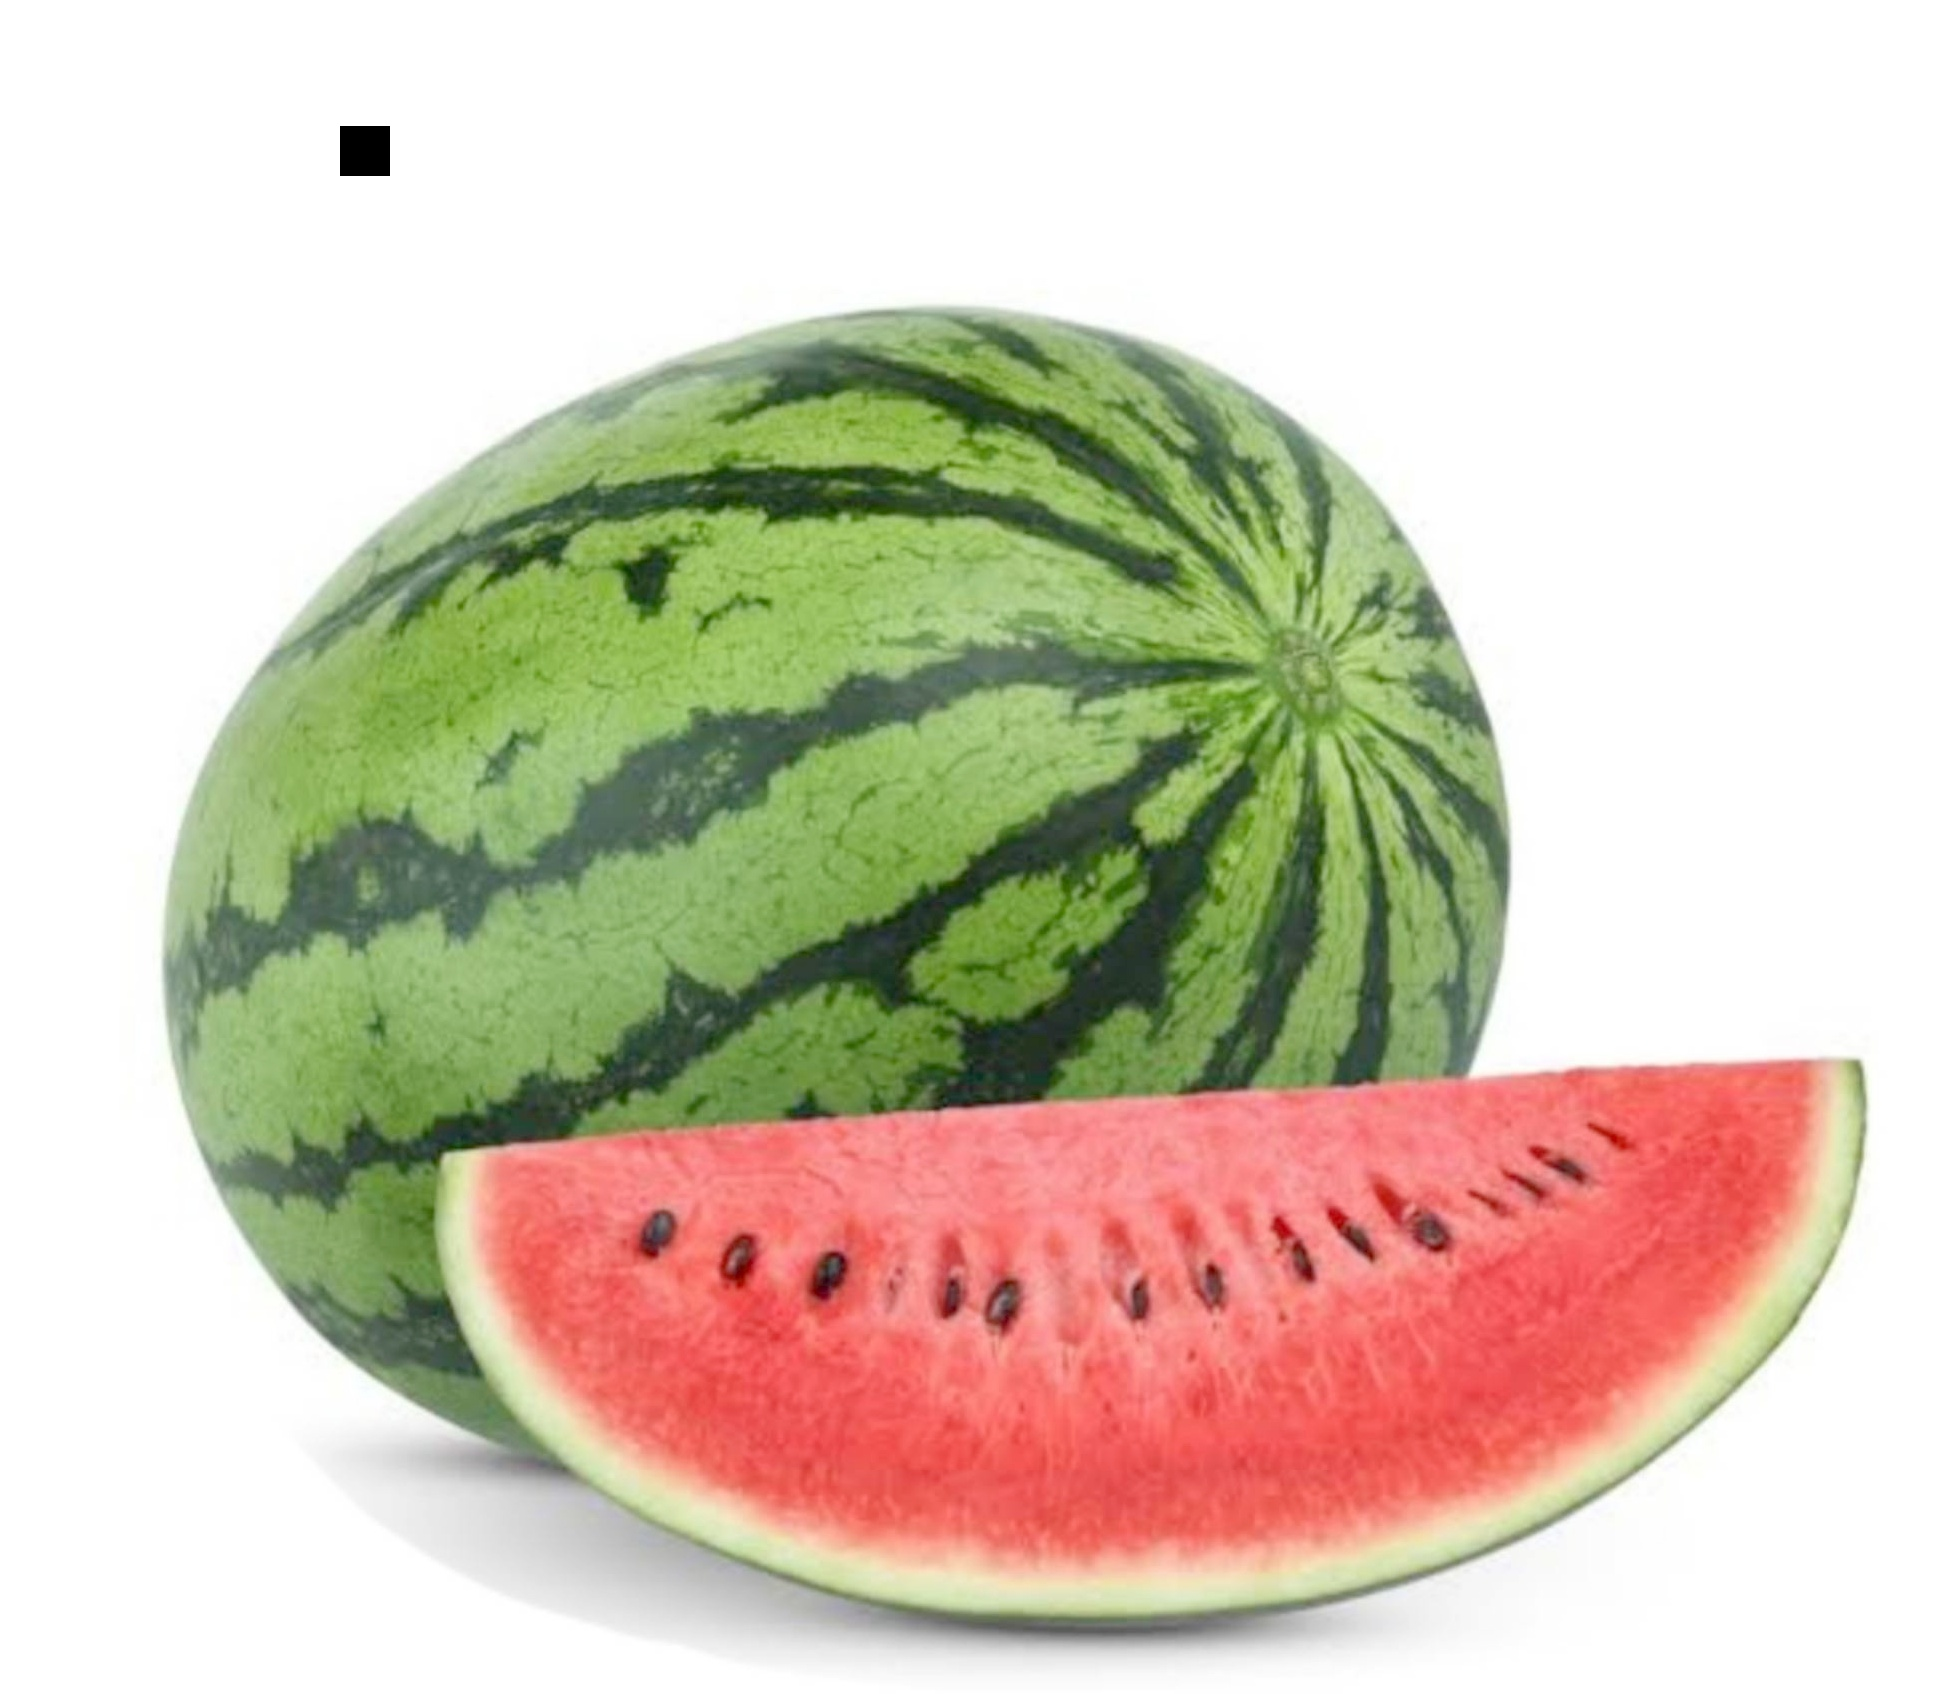watermelon: (114, 308, 1608, 1498)
